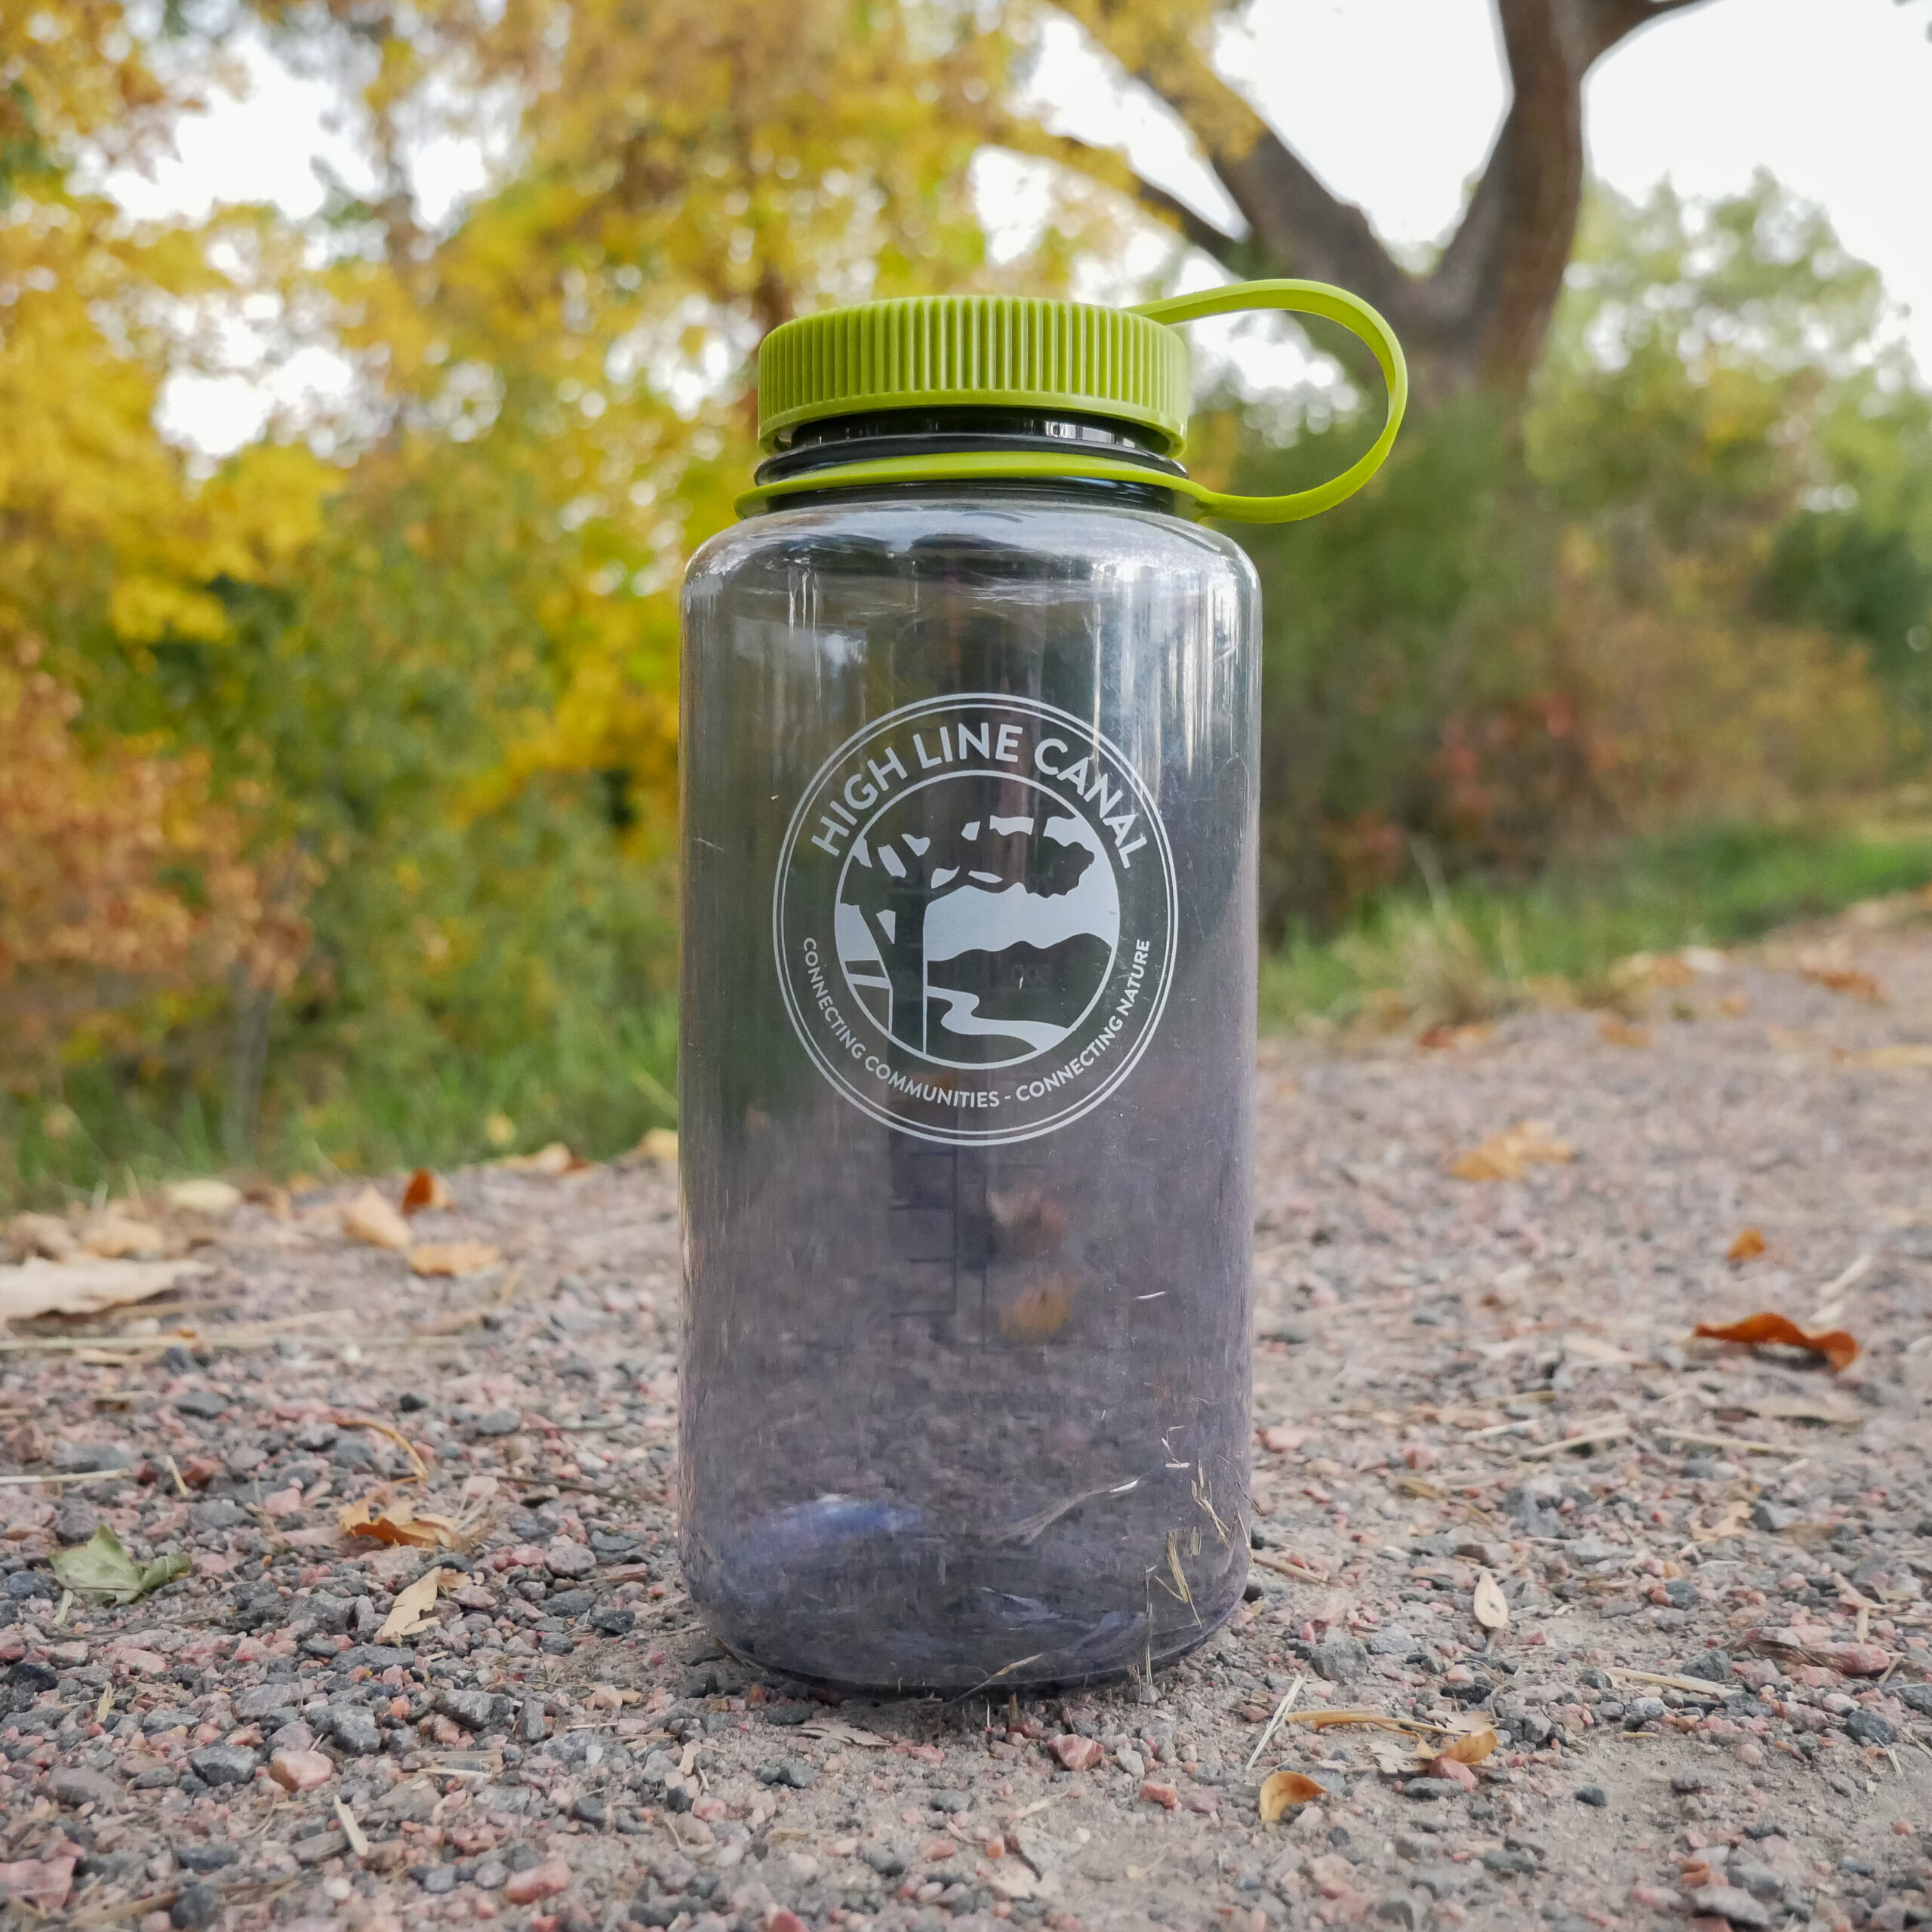waterbottle: (671, 267, 1417, 1707)
